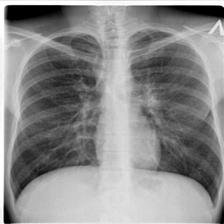tuberculosis: (3, 25, 224, 211)
